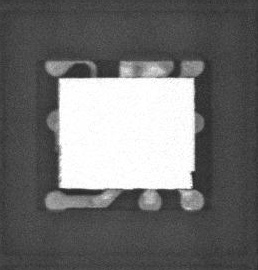DIE_BROKEN: (190, 169, 195, 188)
